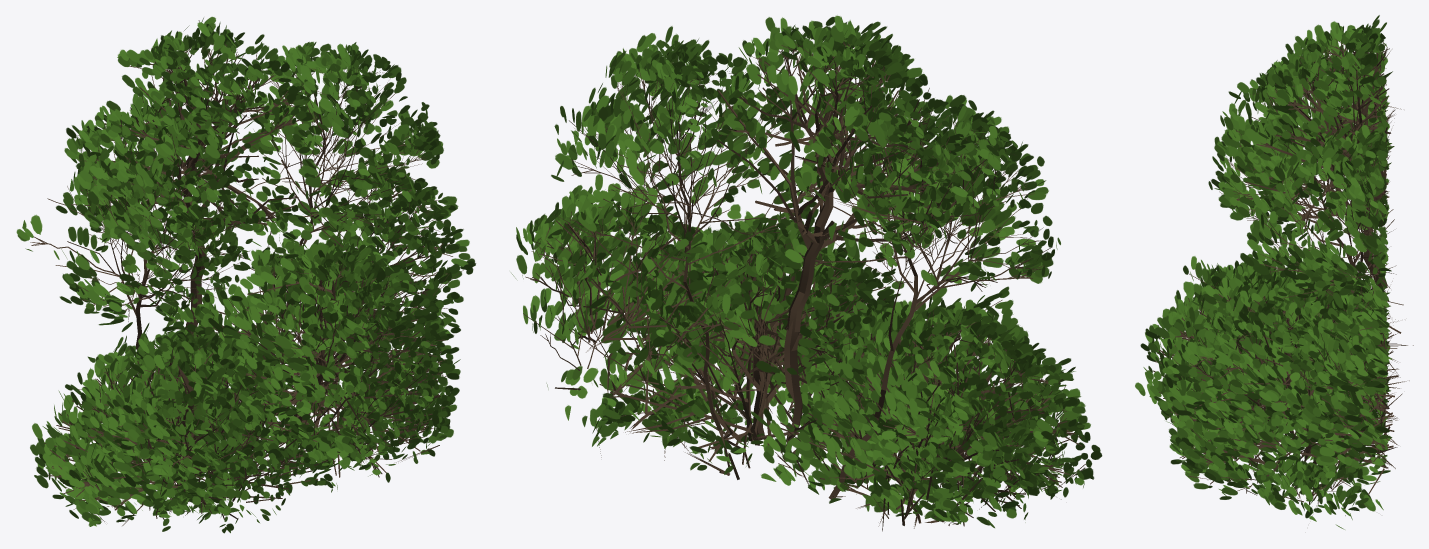
3 views of the same model, side by side, from view 1: azimuth 30°, elevation 25°; view 2: azimuth 150°, elevation 25°; view 3: azimuth 270°, elevation 25° (orthographic). The views are drawn at different scales.
Visible parts, largest first — view 1: oak 01.001_trunk_Mat.001_0.448; view 2: oak 01.001_trunk_Mat.001_0.448; view 3: oak 01.001_trunk_Mat.001_0.448.
Boxes of the visible parts, x1,y1,x2,y2 form: oak 01.001_trunk_Mat.001_0.448: (16,16,475,533); oak 01.001_trunk_Mat.001_0.448: (511,15,1102,531); oak 01.001_trunk_Mat.001_0.448: (1135,15,1413,529).
Size of the model in its own units: 5.29 by 4.81 by 2.95.
Materials: 2 (1 with a texture image).
